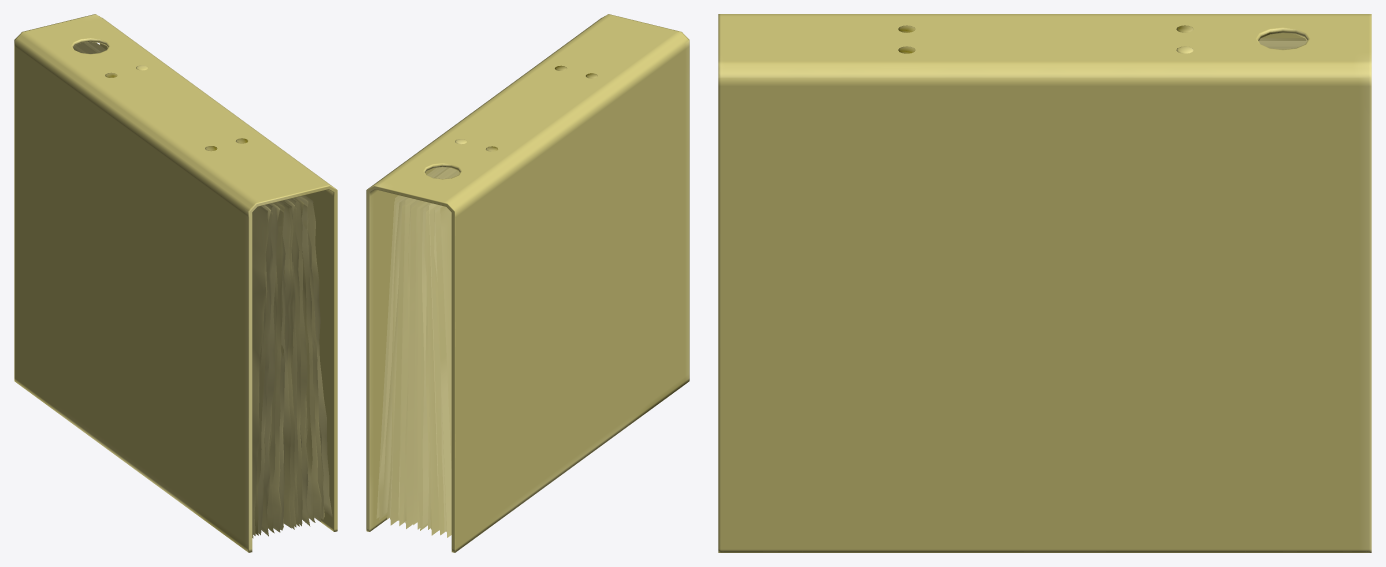
The model's file is yellow_book_interference_light_yellow.obj.
3 renders of one model, left to right at view 1: azimuth 30°, elevation 25°; view 2: azimuth 150°, elevation 25°; view 3: azimuth 270°, elevation 25°, orthographic. The views are drawn at different scales.
Parts seen in each view (by area): view 1: yellow_book_interference_light_yellow_draft_Chocofur_Office_06.0; view 2: yellow_book_interference_light_yellow_draft_Chocofur_Office_06.0; view 3: yellow_book_interference_light_yellow_draft_Chocofur_Office_06.0.
Boxes of the visible parts, <box> form: yellow_book_interference_light_yellow_draft_Chocofur_Office_06.0: <box>14,14,337,552</box>; yellow_book_interference_light_yellow_draft_Chocofur_Office_06.0: <box>366,14,689,552</box>; yellow_book_interference_light_yellow_draft_Chocofur_Office_06.0: <box>718,14,1371,552</box>.
Size of the model in its own units: 0.0674 by 0.2531 by 0.3086.
Materials: 3 (3 with a texture image).
